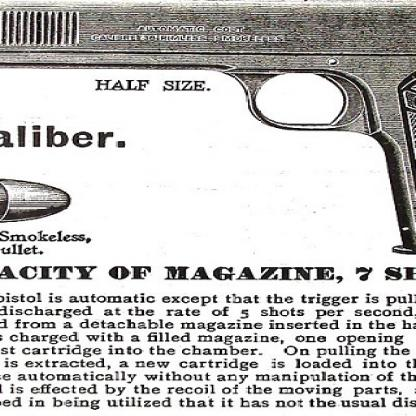gun: (0, 0, 415, 265)
